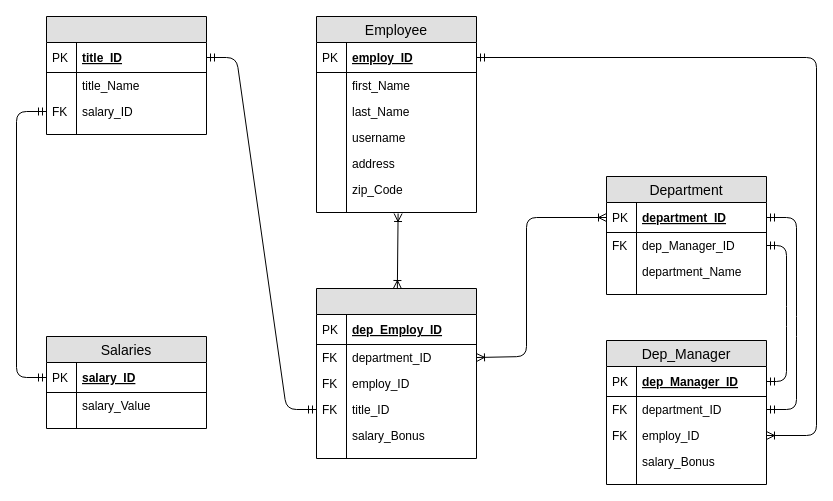
Some shapes in this 833 by 501 pixel diagram are drawn without their labels. The shapes that lost their labels are listed below. From the top down, each one's box as (x1, y1, x2, y2) in pixels, then its label:
(46, 16, 206, 134): Titles
(316, 288, 476, 458): Dep_Employee
